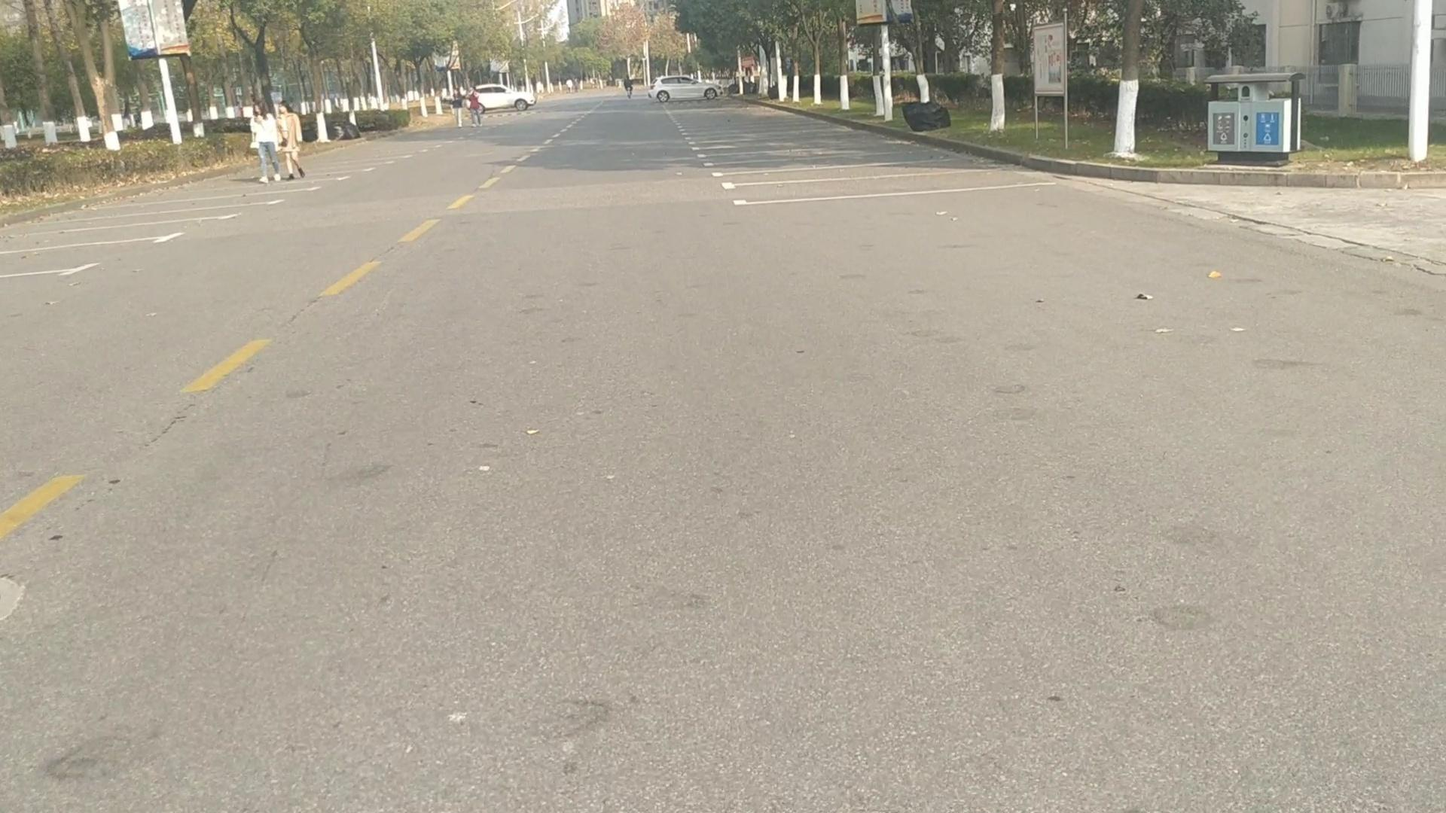car: (648, 73, 722, 103), (471, 84, 533, 113)
